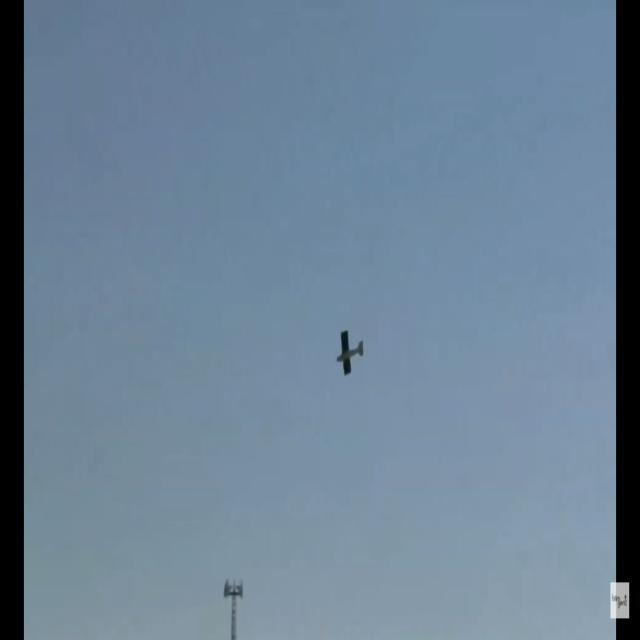iha: (336, 328, 365, 377)
